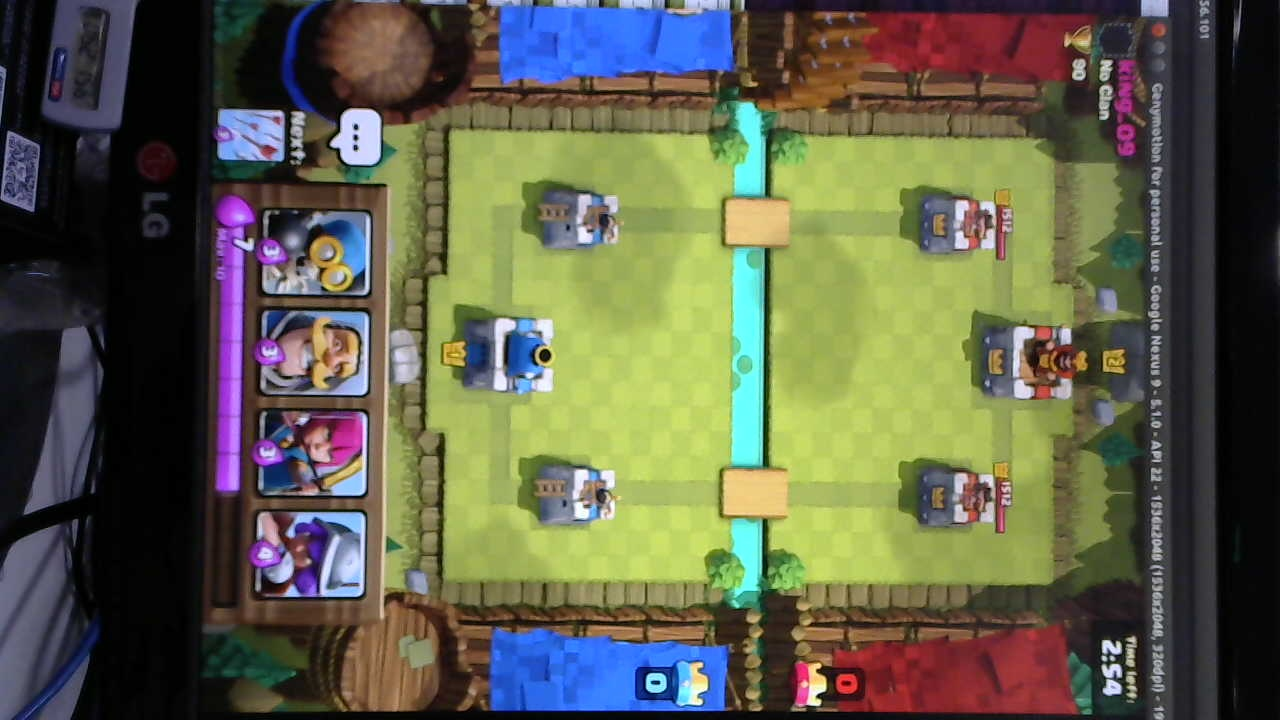arena: (535, 462, 616, 526), (544, 191, 624, 248)
earena: (913, 198, 999, 258), (918, 469, 998, 527)
eking: (983, 324, 1086, 403)
king: (464, 313, 558, 398)
